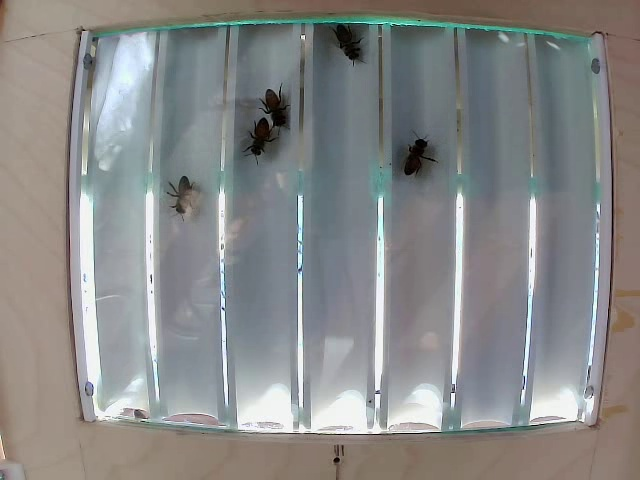bee: (389, 131, 435, 175), (254, 89, 296, 132), (315, 28, 358, 68), (159, 172, 197, 217), (241, 121, 266, 164)
